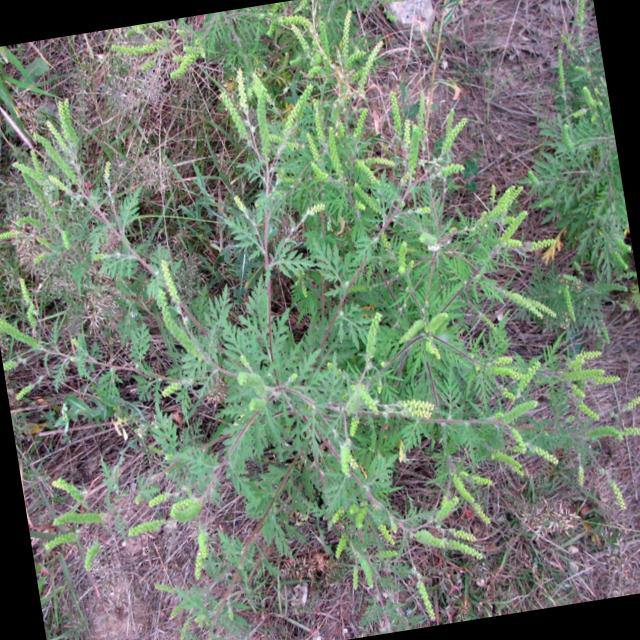ambrosia: (165, 239, 608, 576), (217, 22, 495, 328), (0, 93, 186, 353)
